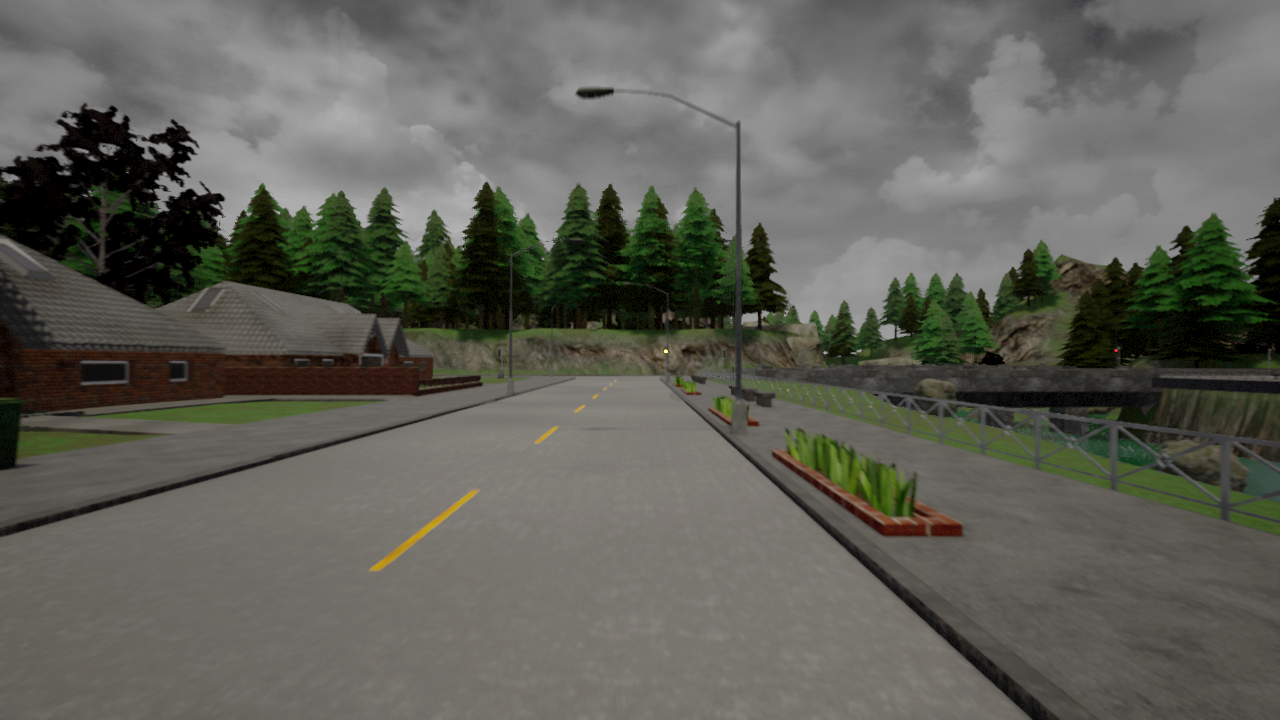yellow: (662, 344, 669, 361)
